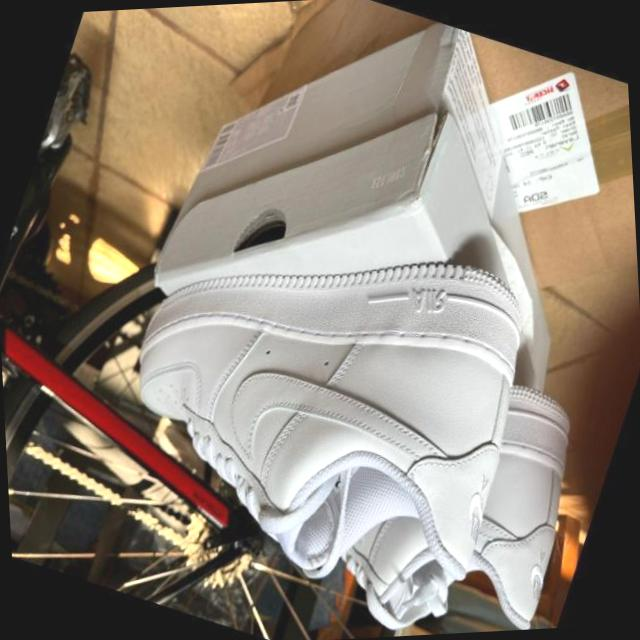nike_original_airforce: (72, 154, 587, 640), (306, 333, 615, 640)
